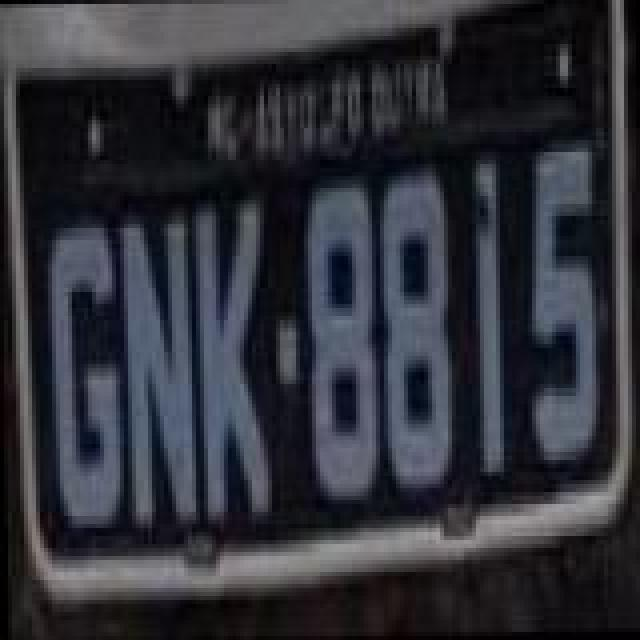1: (476, 158, 504, 490)
5: (524, 138, 600, 470)
8: (380, 174, 456, 506), (306, 182, 378, 502)
G: (46, 224, 122, 536)
K: (192, 194, 268, 526)
N: (122, 222, 198, 534)
